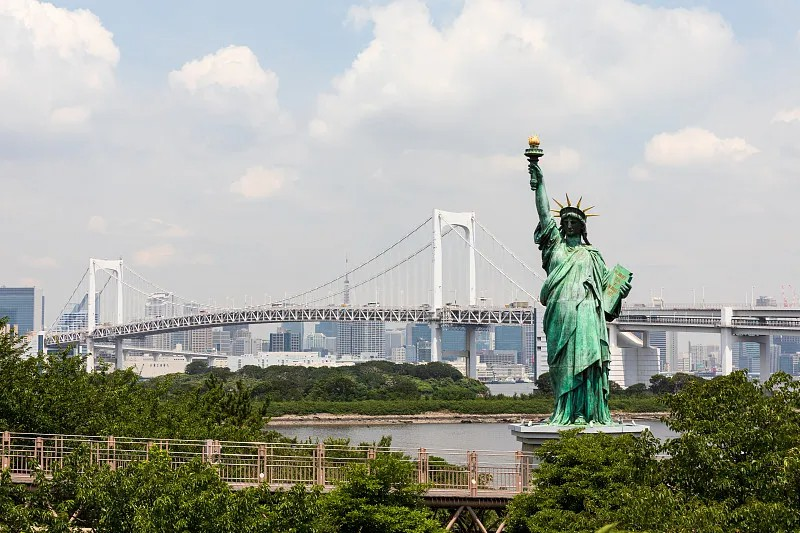SL: (508, 134, 650, 490)
